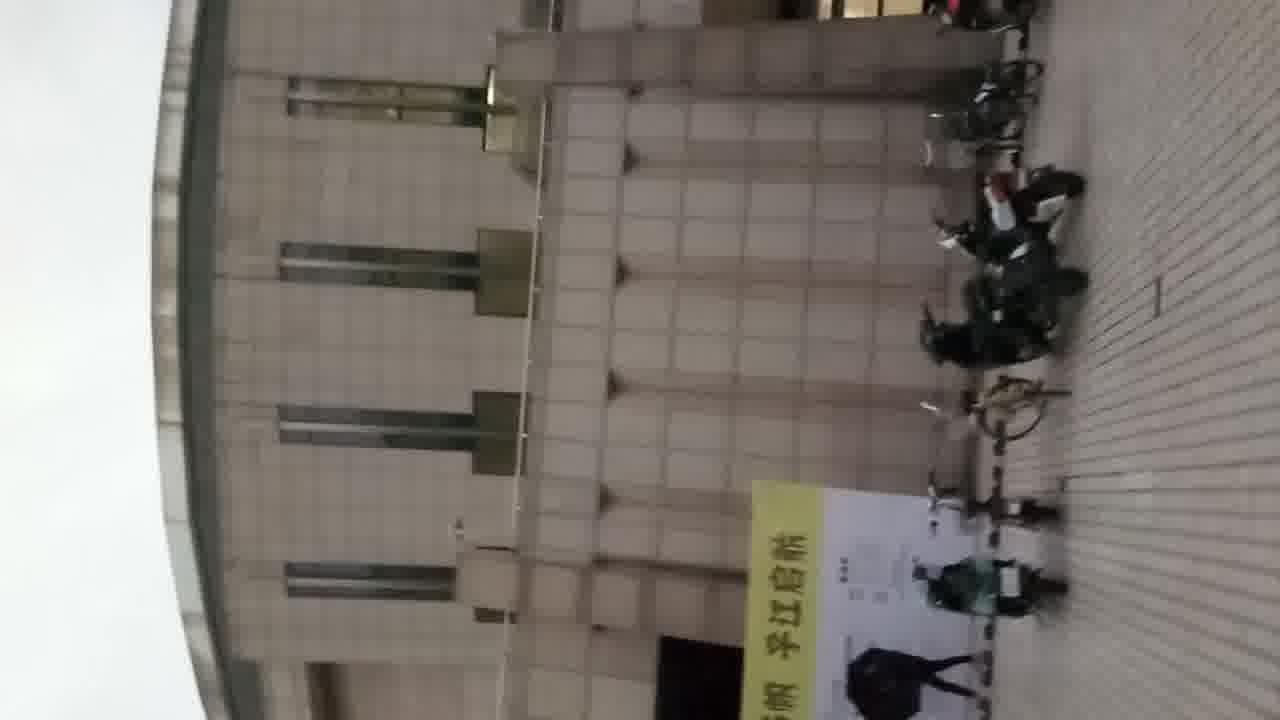zhongtiww: (139, 6, 993, 720)
